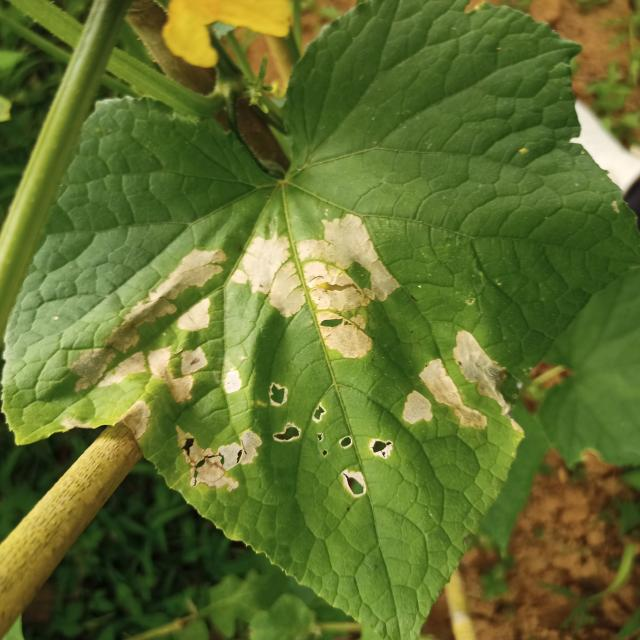disease_cucumber: (73, 214, 526, 498)
